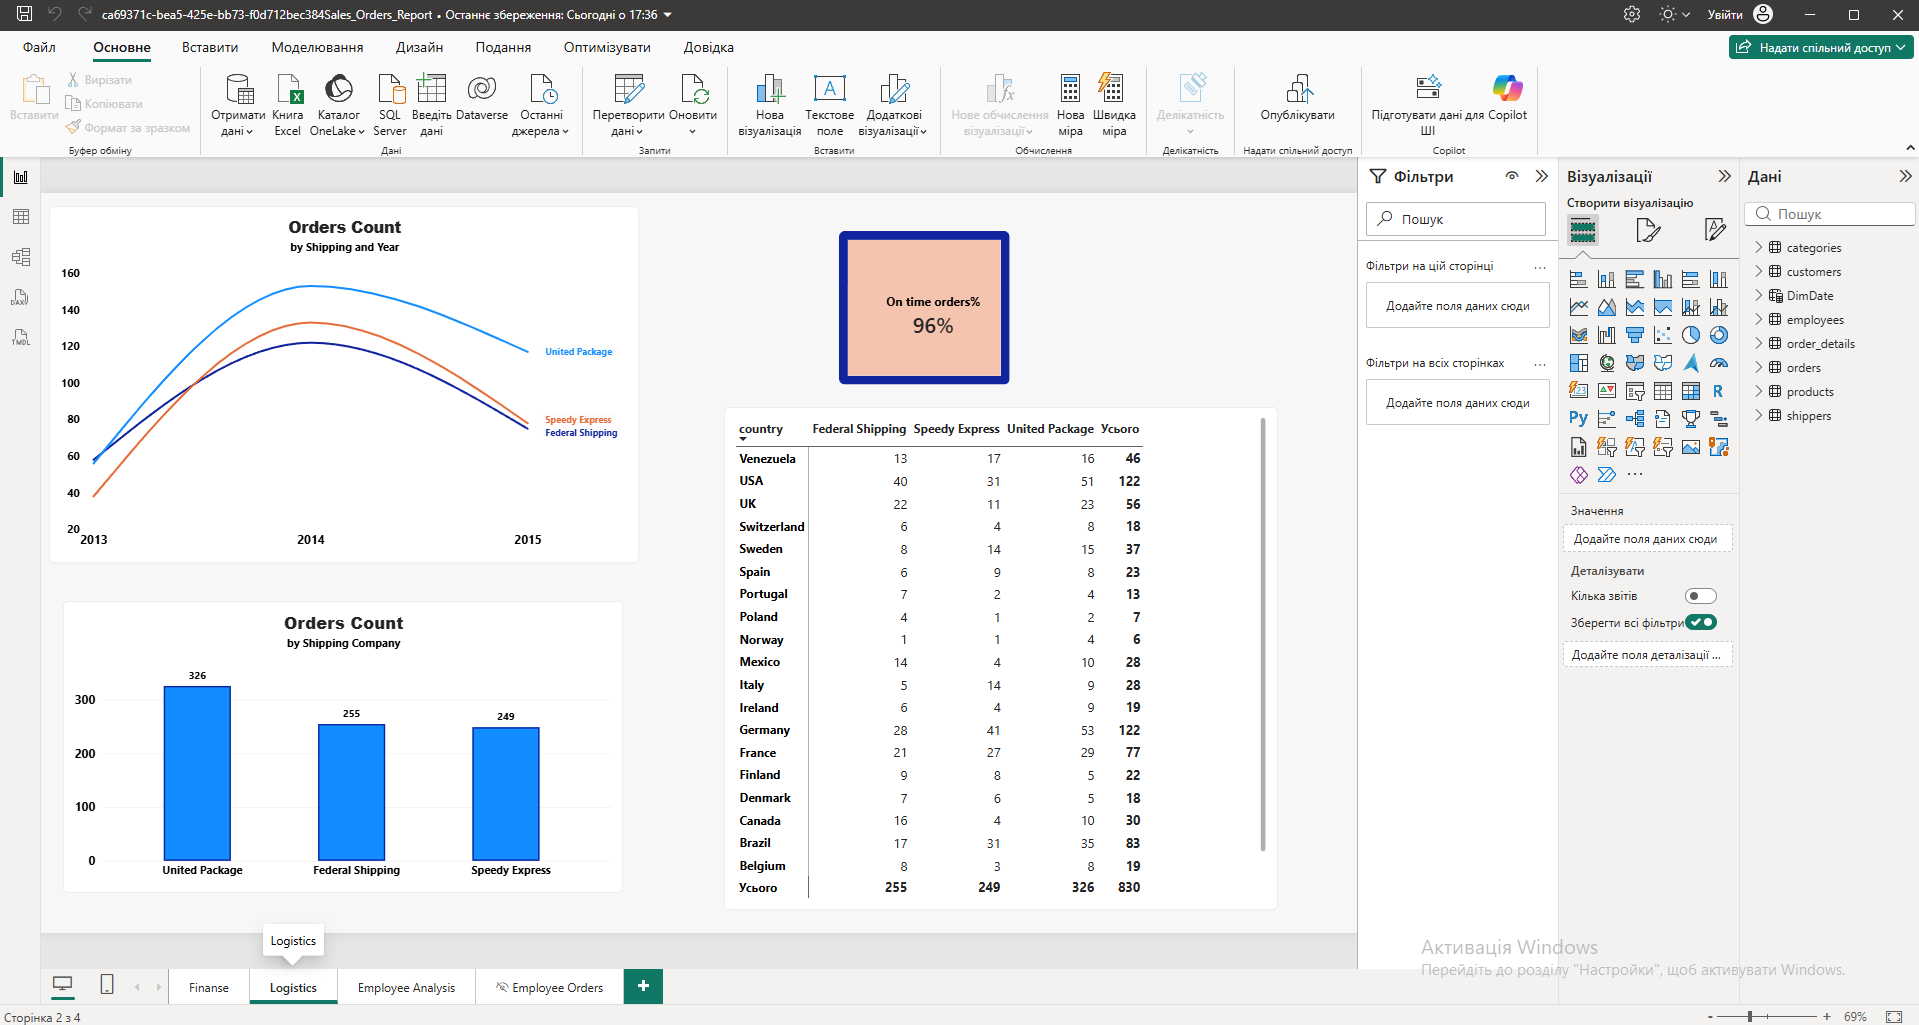

Layout of this report page (visuals, bound fields, positions):
{"tool":"powerbi","page":{"name":"Logistics","canvas":[1920,1080],"ordinal":1},"visuals":[{"type":"clusteredColumnChart","title":"Orders Count","fields":{"Category":["shippers.companyName"],"Y":["orders._Orders Count"]},"box":[32.1,595.3,817,426],"z":0},{"type":"lineChart","title":"Orders Count","fields":{"Category":["DimDate.Date.Варіація.Ієрархія дат.Рік","DimDate.Date.Варіація.Ієрархія дат.Місяць"],"Series":["shippers.companyName"],"Y":["orders._Orders Count"]},"box":[11.7,19,860.8,520.9],"z":1},{"type":"cardVisual","fields":{"Data":["orders.On time orders%"]},"box":[1164.3,55.4,249.5,224.7],"z":2},{"type":"pivotTable","fields":{"Columns":["shippers.companyName"],"Rows":["customers.country"],"Values":["orders._Orders Count"]},"box":[996.5,312.2,808.3,733.9],"z":3}]}

Visuals, with their boxes on the page's 1920x1080 design canvas (x1, y1, x2, y2). These are canvas units, not pixel positions in the 1919x1025 screenshot, which may show the page scaled, cropped or inside an application window:
"Orders Count" clusteredColumnChart: detection(32, 595, 849, 1021)
"Orders Count" lineChart: detection(12, 19, 872, 540)
cardVisual - orders.On time orders%: detection(1164, 55, 1414, 280)
pivotTable - shippers.companyName x customers.country: detection(996, 312, 1805, 1046)
